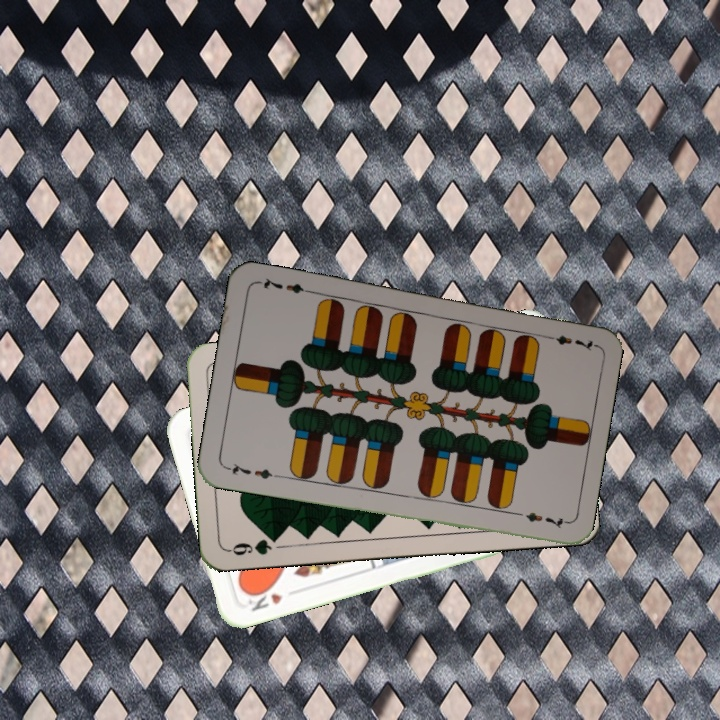E7: (222, 459, 281, 482), (538, 331, 597, 353)
G9: (225, 531, 283, 558)
HK: (243, 583, 286, 614)
